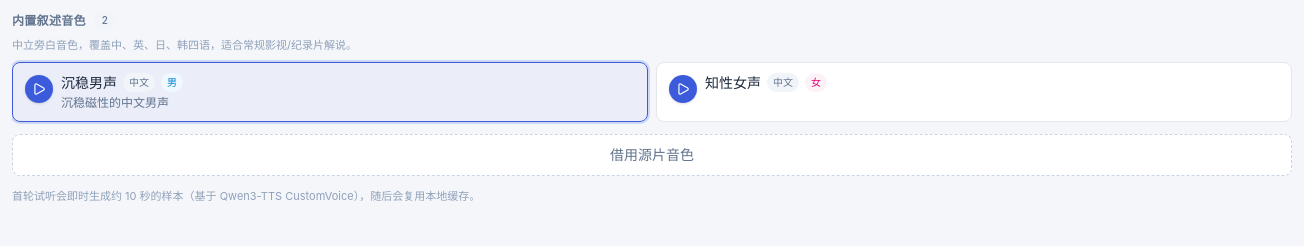
Scenario: NarratorVoicePicker.handlePreview › surfaces the backend detail message when the preview endpoint returns 500
The width and height of the screenshot is (1304, 246).
Click the 1st button named "试听" at x=39, y=89, box [25,75,53,103]
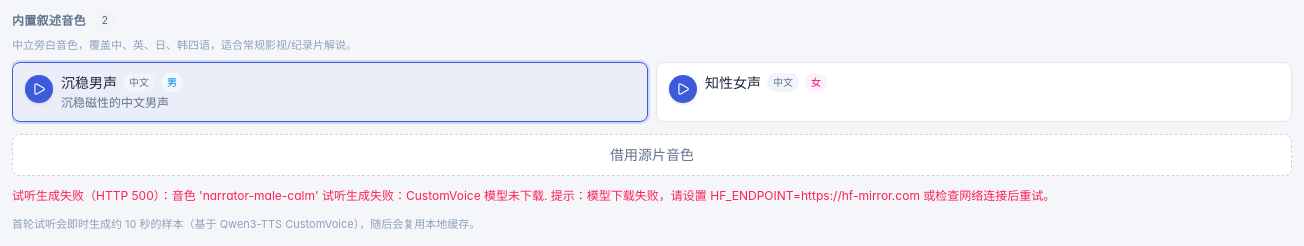
Result: the message shows "HTTP 500" at [12,188,1055,203]
Result: the message shows "CustomVoice 模型未下载" at [12,188,1055,203]
Result: the message shows "HF_ENDPOINT" at [12,188,1055,203]
